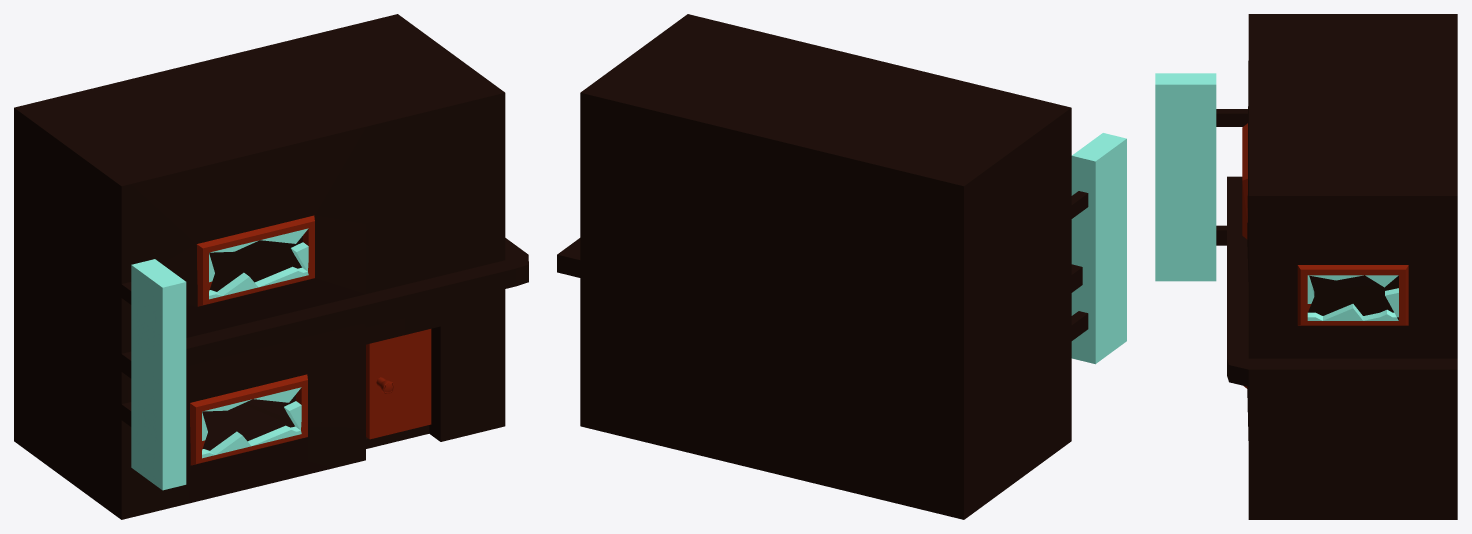
Rendered from myhome@out_close_s.FBX.
3 renders of one model, left to right at view 1: azimuth 30°, elevation 25°; view 2: azimuth 150°, elevation 25°; view 3: azimuth 270°, elevation 25°, orthographic. The views are drawn at different scales.
Visible parts, largest first — view 1: Box001, Object001, Object002; view 2: Object002, Box001; view 3: Box001.
Part boxes in pixels (<box>): Box001: <box>14,14,528,519</box>; Object001: <box>366,329,431,439</box>; Object002: <box>197,236,302,294</box>; Object002: <box>557,93,963,518</box>; Box001: <box>557,14,1126,519</box>; Box001: <box>1155,14,1457,519</box>.
Size of the model in its own units: 83.97 by 64.66 by 54.67.
